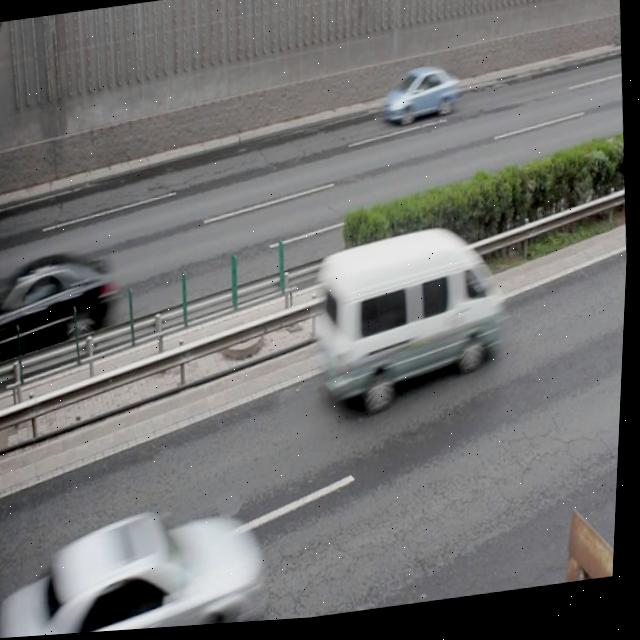car: (34, 498, 266, 637), (0, 248, 119, 357), (381, 67, 460, 131)
truck: (312, 224, 512, 418)
